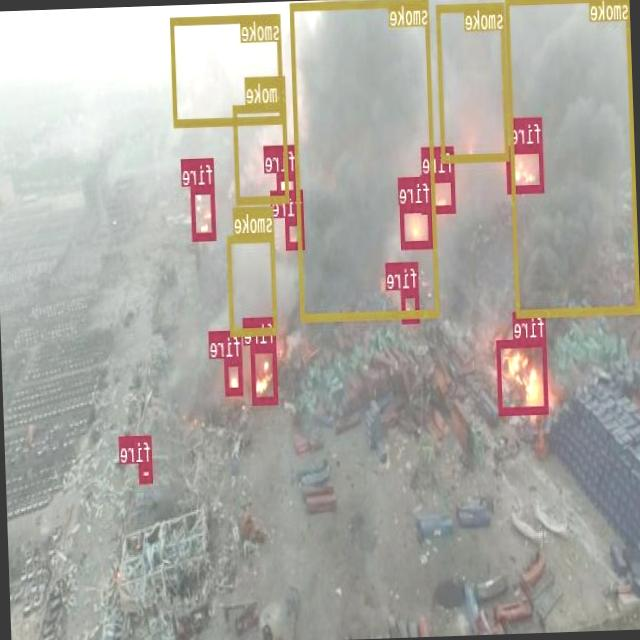fire: (496, 338, 548, 414), (506, 142, 544, 192), (251, 342, 279, 403), (400, 202, 432, 246), (190, 184, 216, 238), (421, 172, 456, 212), (224, 356, 243, 394), (286, 216, 305, 248), (402, 288, 420, 321), (276, 170, 298, 197), (139, 462, 153, 481)
smoke: (291, 0, 440, 319), (506, 0, 640, 314), (170, 12, 284, 126), (436, 1, 509, 160), (234, 102, 289, 204), (228, 232, 278, 334)
